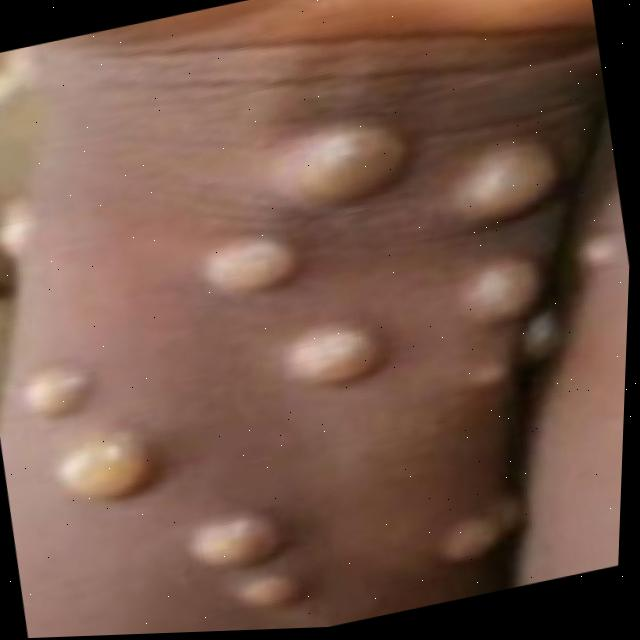Eczema: (0, 36, 616, 640)
